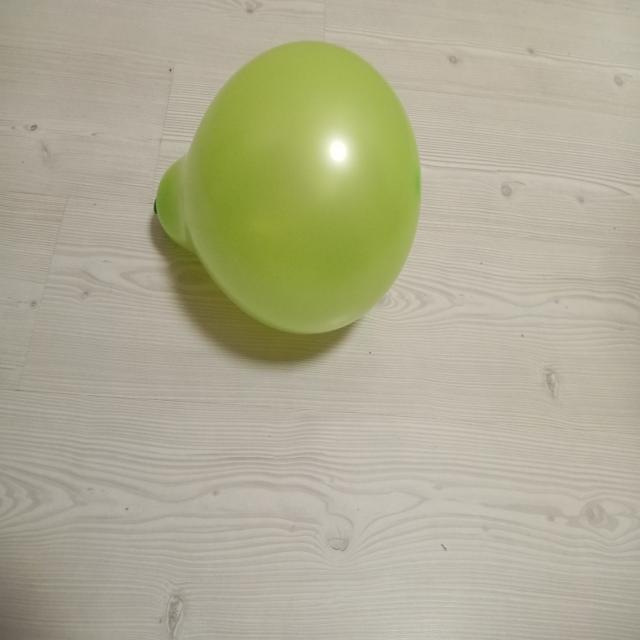balloon: (154, 41, 421, 334)
